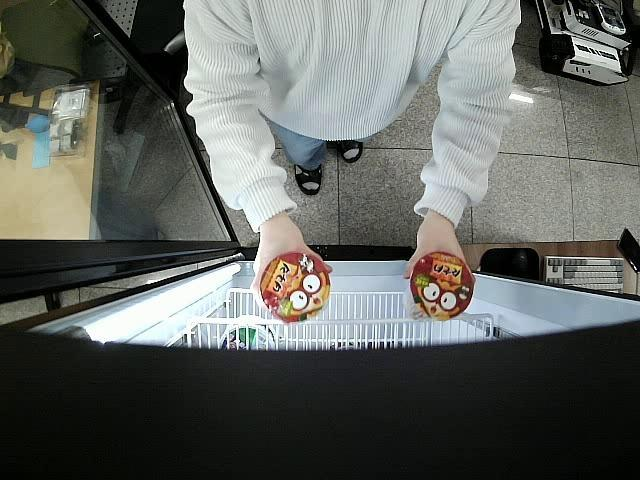06_nuguri_S: (260, 250, 332, 324), (402, 252, 474, 320)
